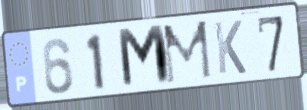1: (84, 31, 107, 93)
6: (40, 35, 74, 96)
7: (255, 14, 286, 74)
K: (212, 18, 249, 77)
M: (115, 22, 174, 92), (160, 18, 214, 87)
